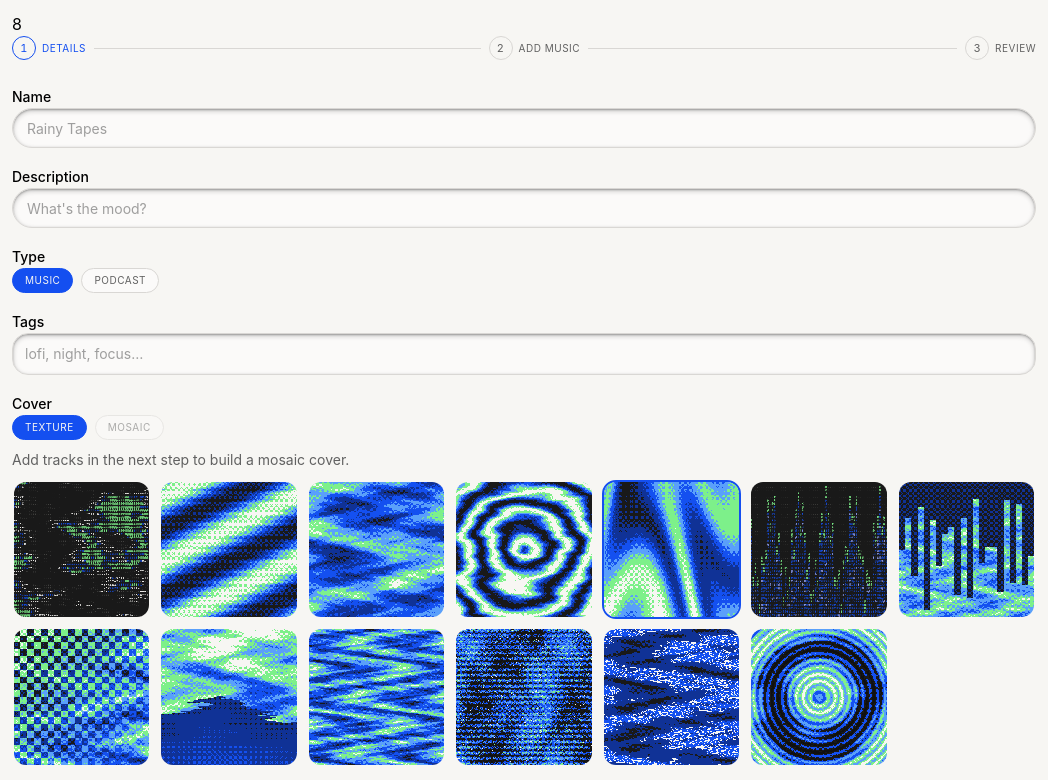
Test case: CreatePlaylistFlow › tags › turns Enter into a chip, trimmed and lowercased
Type "  Lofi  " into the field labelled "Tags". click: (524,354)
box: [25,340,1023,368]
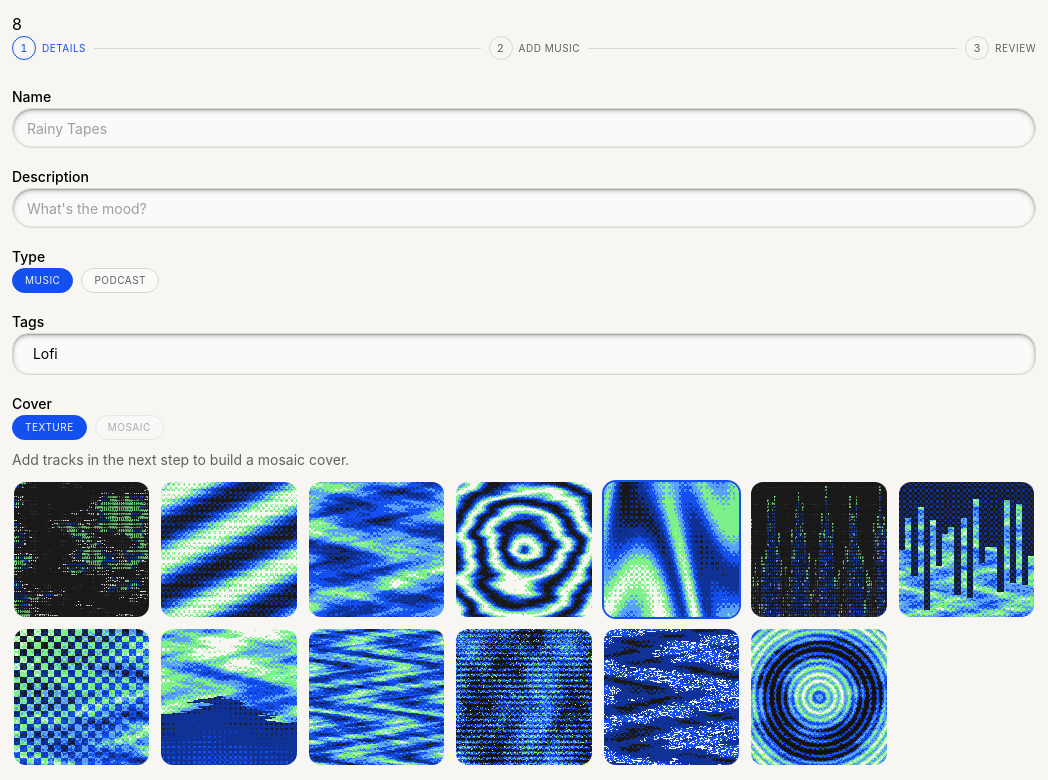
Press Enter in the field labelled "Tags", box [25,340,1023,368]
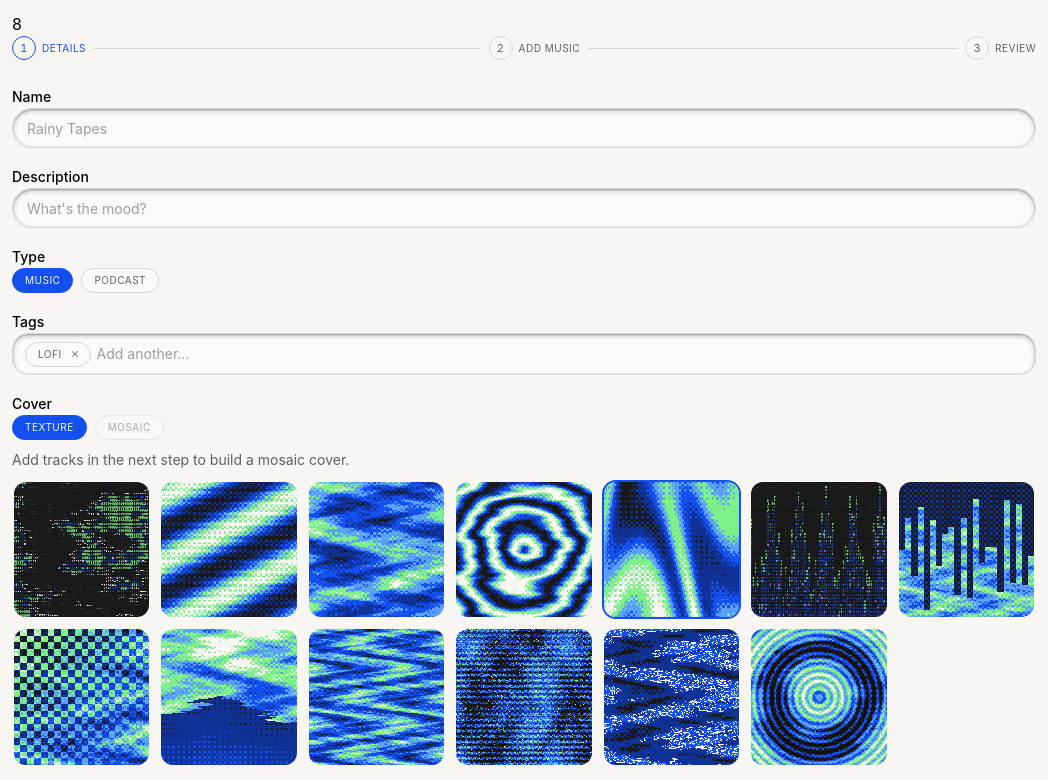
Now the text "lofi" is shown, box [25,342,91,366]
Now the field labelled "Tags" is empty, box [97,340,1023,368]
